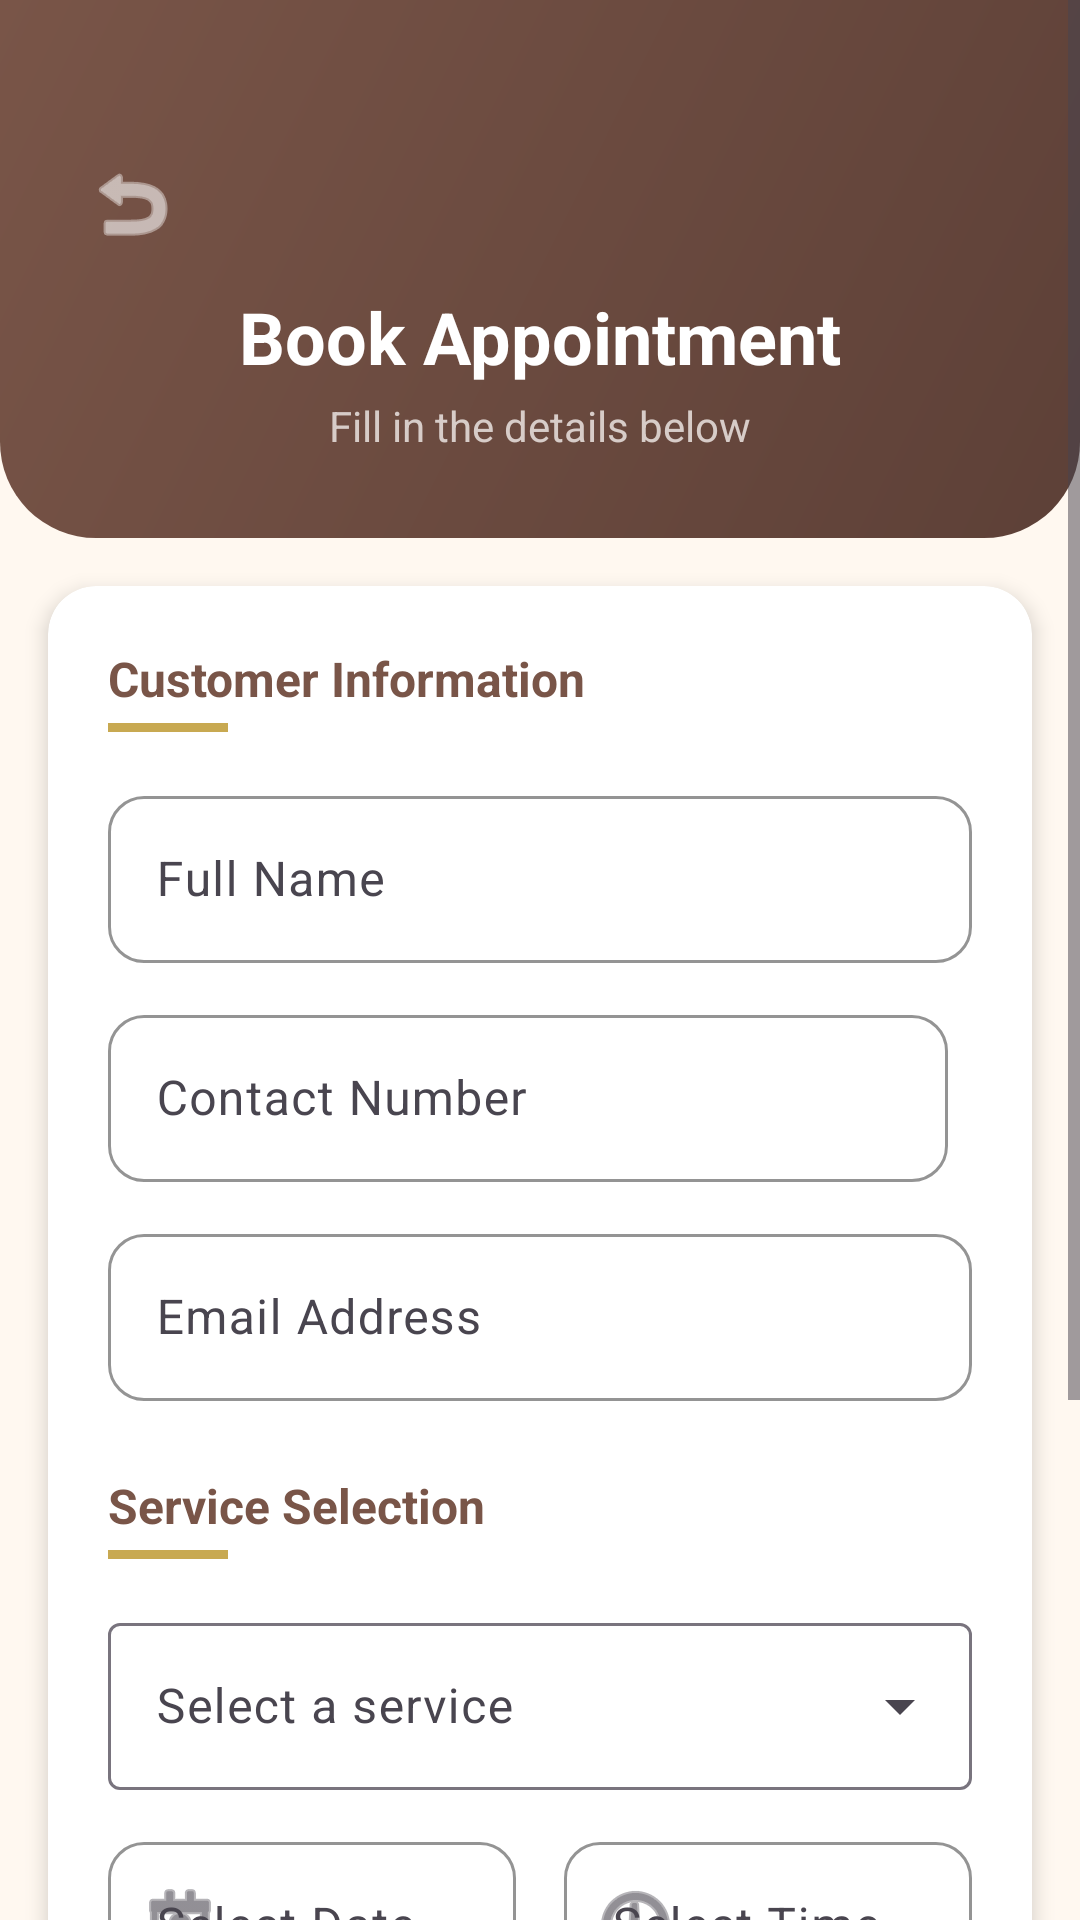

Icon bounding boxes for this 1080px×1920px phone screenshot, format bbox=(x1, y1, x2, y2):
Back: bbox=(99, 173, 168, 236)
